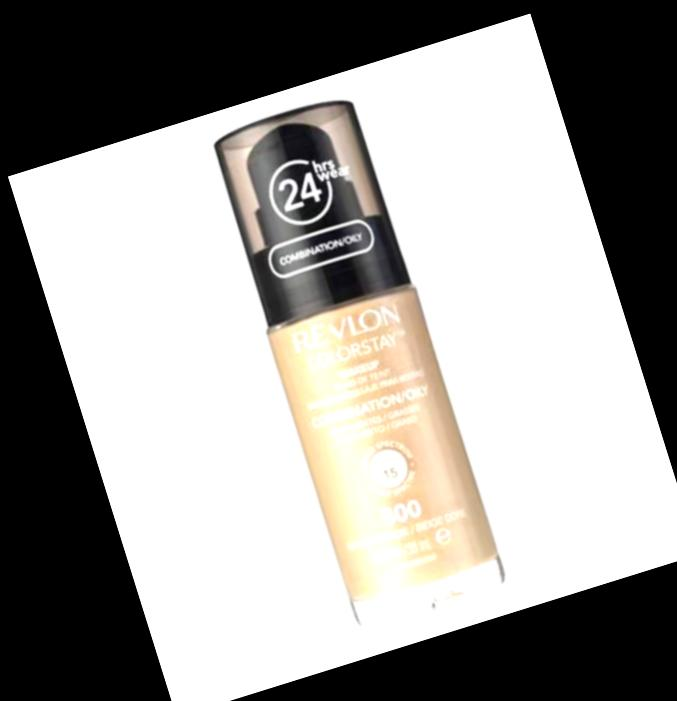cosmetic: (204, 89, 510, 628)
